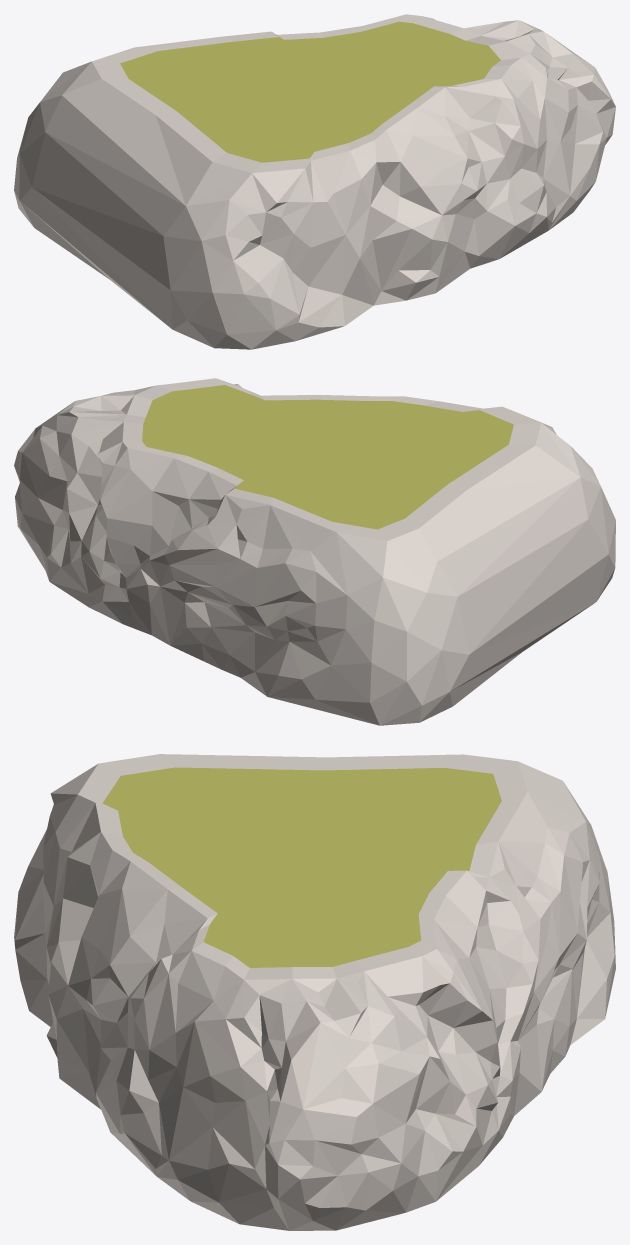
Rendered from ridge1.fbx.
3 views of the same model, one above another, from view 1: azimuth 30°, elevation 25°; view 2: azimuth 150°, elevation 25°; view 3: azimuth 270°, elevation 25° (orthographic). The views are drawn at different scales.
Parts seen in each view (by area): view 1: ridge1_LOD0; view 2: ridge1_LOD0; view 3: ridge1_LOD0.
Part boxes in pixels (left/top/right/bottom): ridge1_LOD0: left=14, top=14, right=615, bottom=349; ridge1_LOD0: left=14, top=378, right=615, bottom=725; ridge1_LOD0: left=14, top=754, right=615, bottom=1230.
Size of what is drawn, in the model's own units: 5782 by 1656 by 4413.
